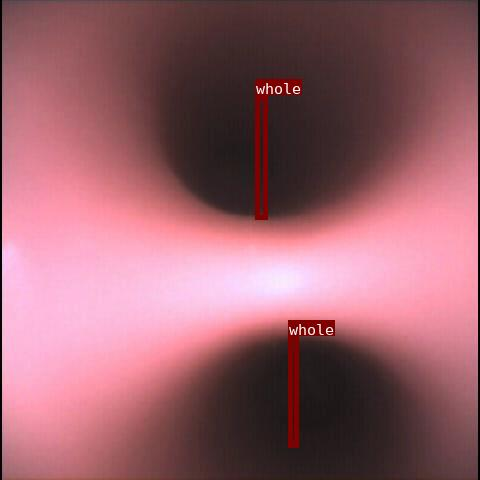whole: (255, 95, 267, 219), (288, 336, 298, 447)
